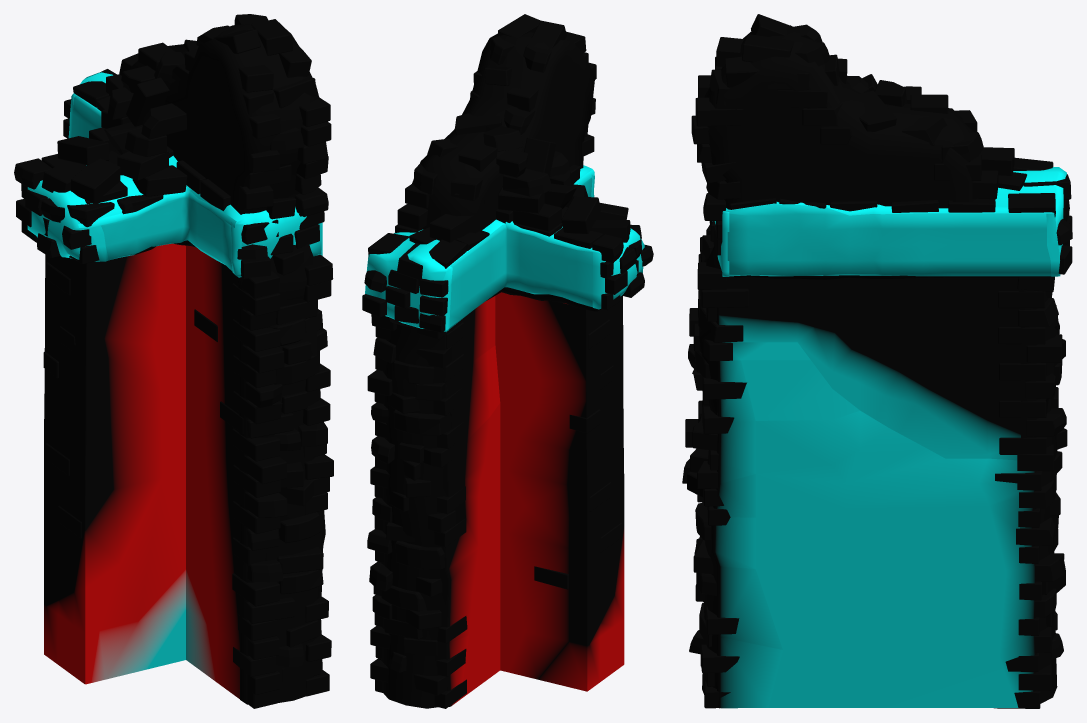
Rendered from Fence9.fbx.
The picture shows the model from 3 angles, left to right: view 1: azimuth 30°, elevation 25°; view 2: azimuth 150°, elevation 25°; view 3: azimuth 270°, elevation 25°; orthographic projection. The views are drawn at different scales.
Visible parts, largest first — view 1: SM_Ind_WL_Br_T01.mo; view 2: SM_Ind_WL_Br_T01.mo; view 3: SM_Ind_WL_Br_T01.mo.
Part boxes in pixels (x1,y1,x2,y2): SM_Ind_WL_Br_T01.mo: (14, 14, 333, 708); SM_Ind_WL_Br_T01.mo: (362, 14, 653, 708); SM_Ind_WL_Br_T01.mo: (682, 14, 1072, 708).
Bounding box in the file's own units: 155 × 460 × 246.
